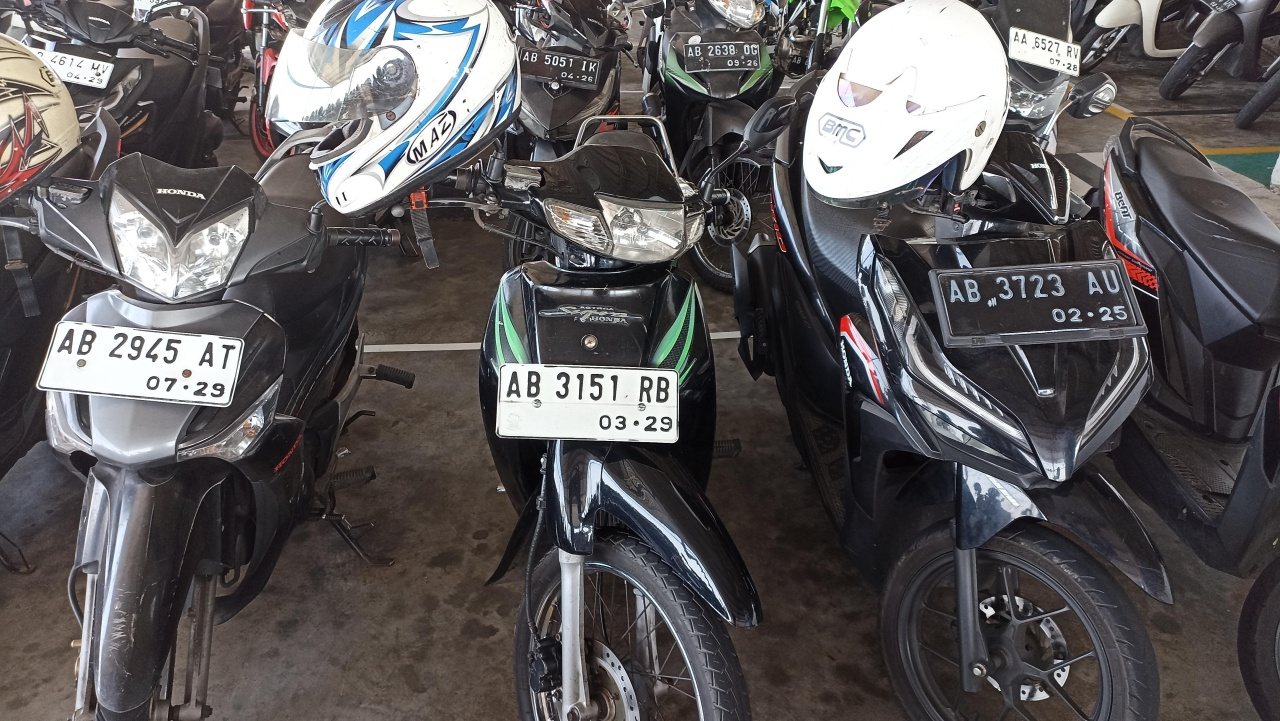plate: (934, 259, 1145, 346), (37, 320, 244, 407), (497, 364, 678, 444), (1010, 26, 1081, 76), (516, 47, 602, 88), (684, 42, 761, 73)
